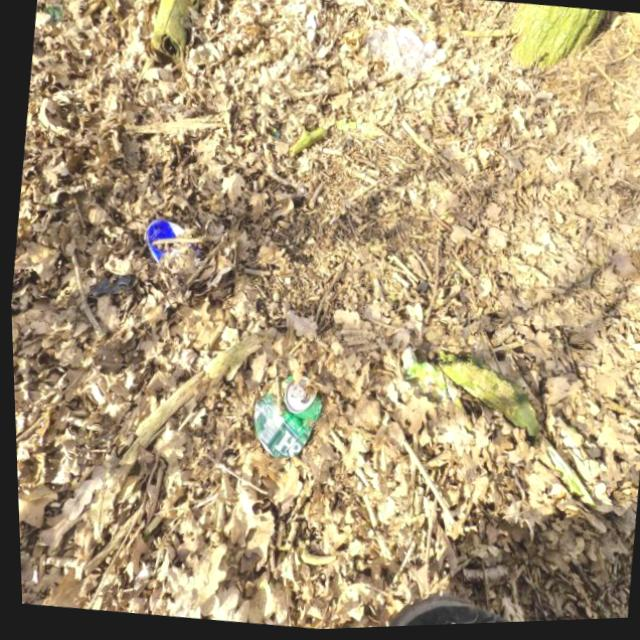Can-Metal: (242, 368, 325, 467), (135, 214, 204, 283)
Paper: (359, 22, 451, 89)
